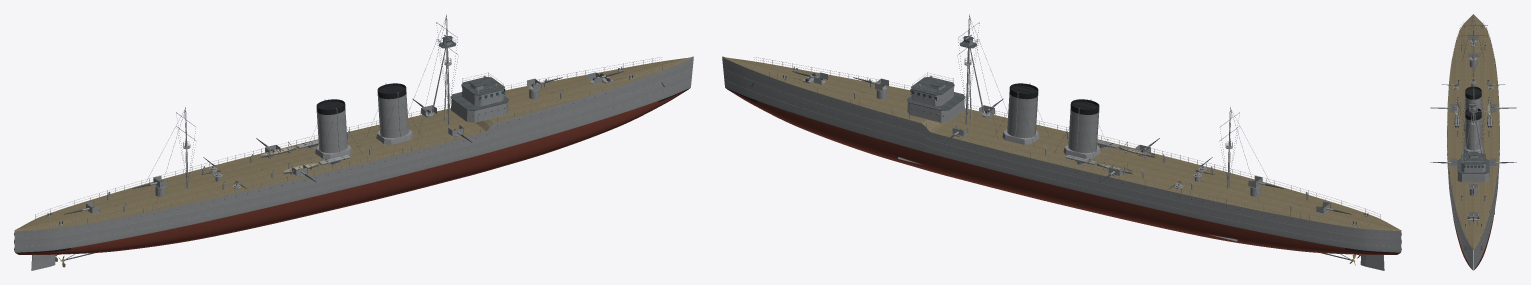
Rendered from emden_cl.glb.
3 views of the same model, side by side, from view 1: azimuth 30°, elevation 25°; view 2: azimuth 150°, elevation 25°; view 3: azimuth 270°, elevation 25° (orthographic). The views are drawn at different scales.
Parts seen in each view (by area): view 1: Emden; view 2: Emden; view 3: Emden.
Part boxes in pixels (left/top/right/bottom): Emden: left=14, top=14, right=693, bottom=270; Emden: left=722, top=14, right=1401, bottom=270; Emden: left=1430, top=14, right=1516, bottom=270.
Bounding box in the file's own units: 155 × 34.34 × 23.54.
Materials: 9 (8 with a texture image).
